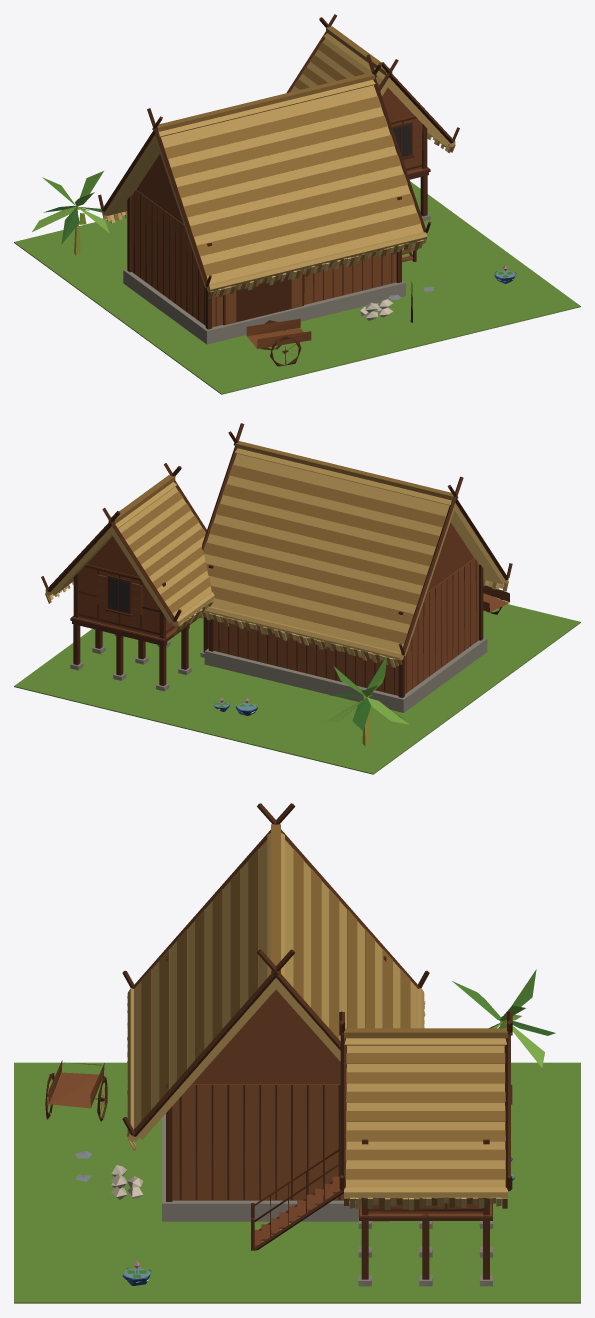
File: shop_4.glb
3 renders of one model, top to bottom at view 1: azimuth 30°, elevation 25°; view 2: azimuth 150°, elevation 25°; view 3: azimuth 270°, elevation 25°, orthographic. The views are drawn at different scales.
Parts seen in each view (by area): view 1: body; view 2: body, windows; view 3: body.
Boxes of the visible parts, <box> form: body: <box>14,14,580,394</box>; body: <box>14,423,580,774</box>; windows: <box>108,578,129,612</box>; body: <box>14,803,580,1303</box>.
Bounding box in the file's own units: 16.31 × 8.72 × 15.9.
